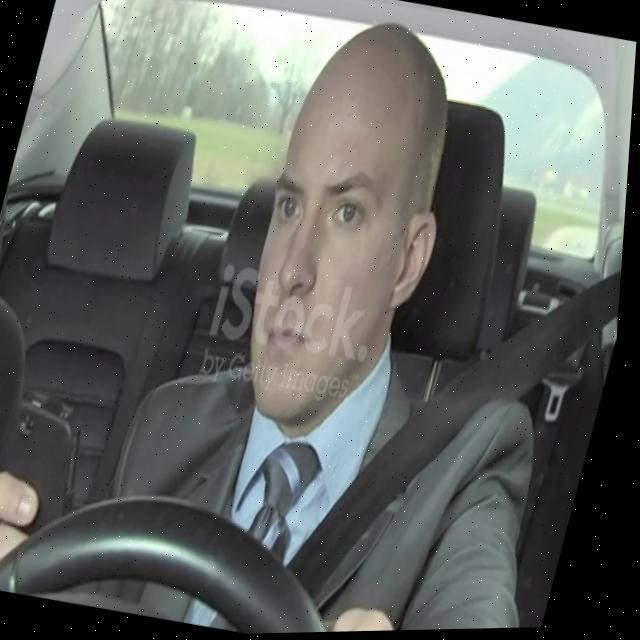PhoneCall: (0, 387, 100, 558)
